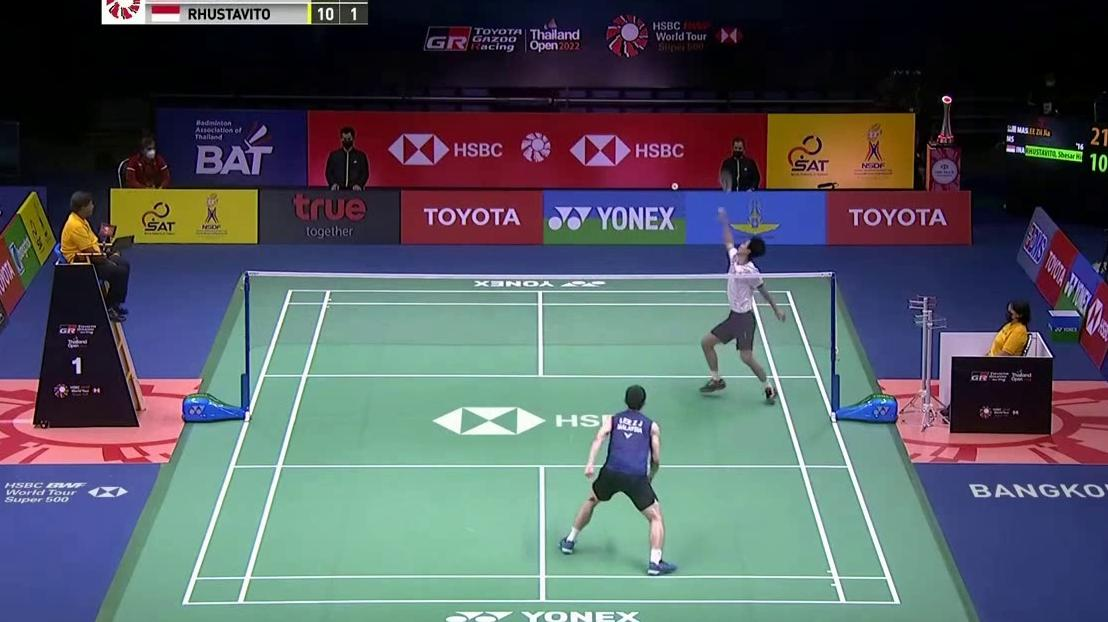racket: (718, 172, 733, 216)
shuttle: (671, 182, 678, 190)
